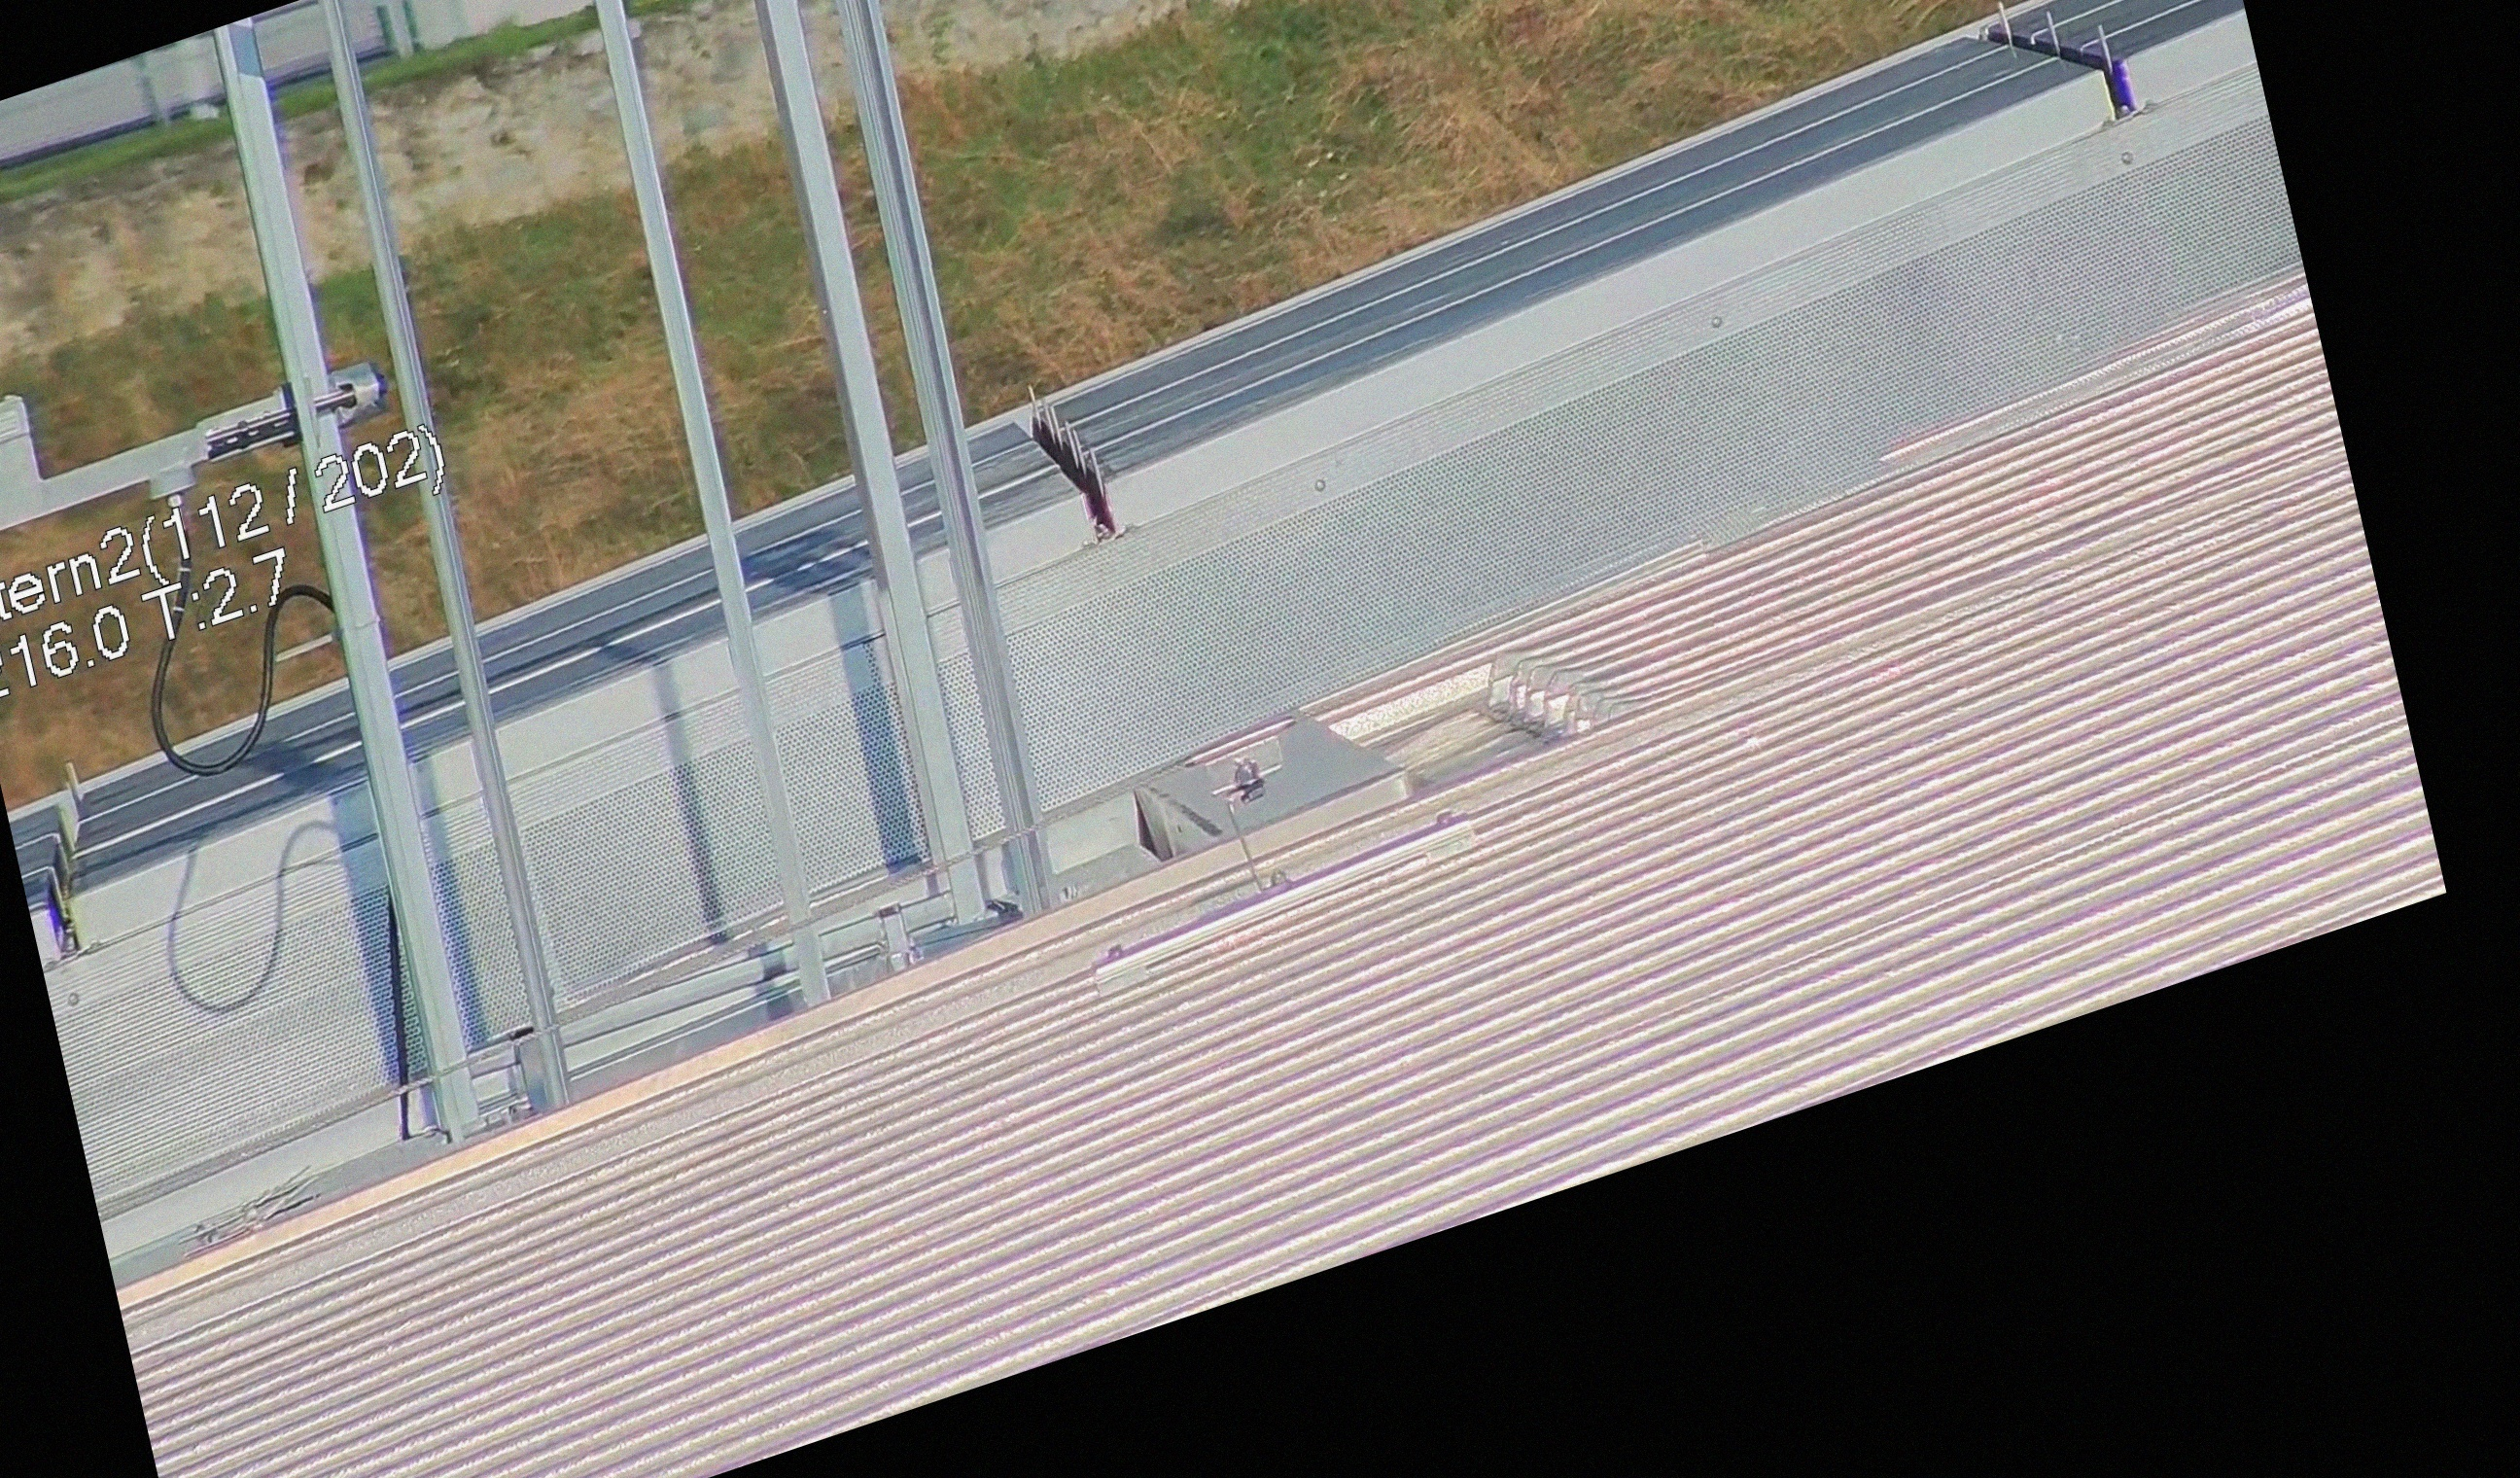Other: (995, 352, 1134, 574)
